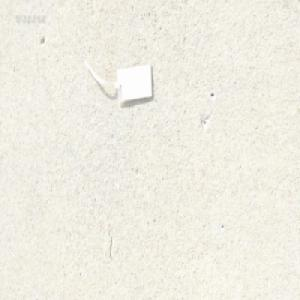LuggageTag: (81, 59, 154, 105)
